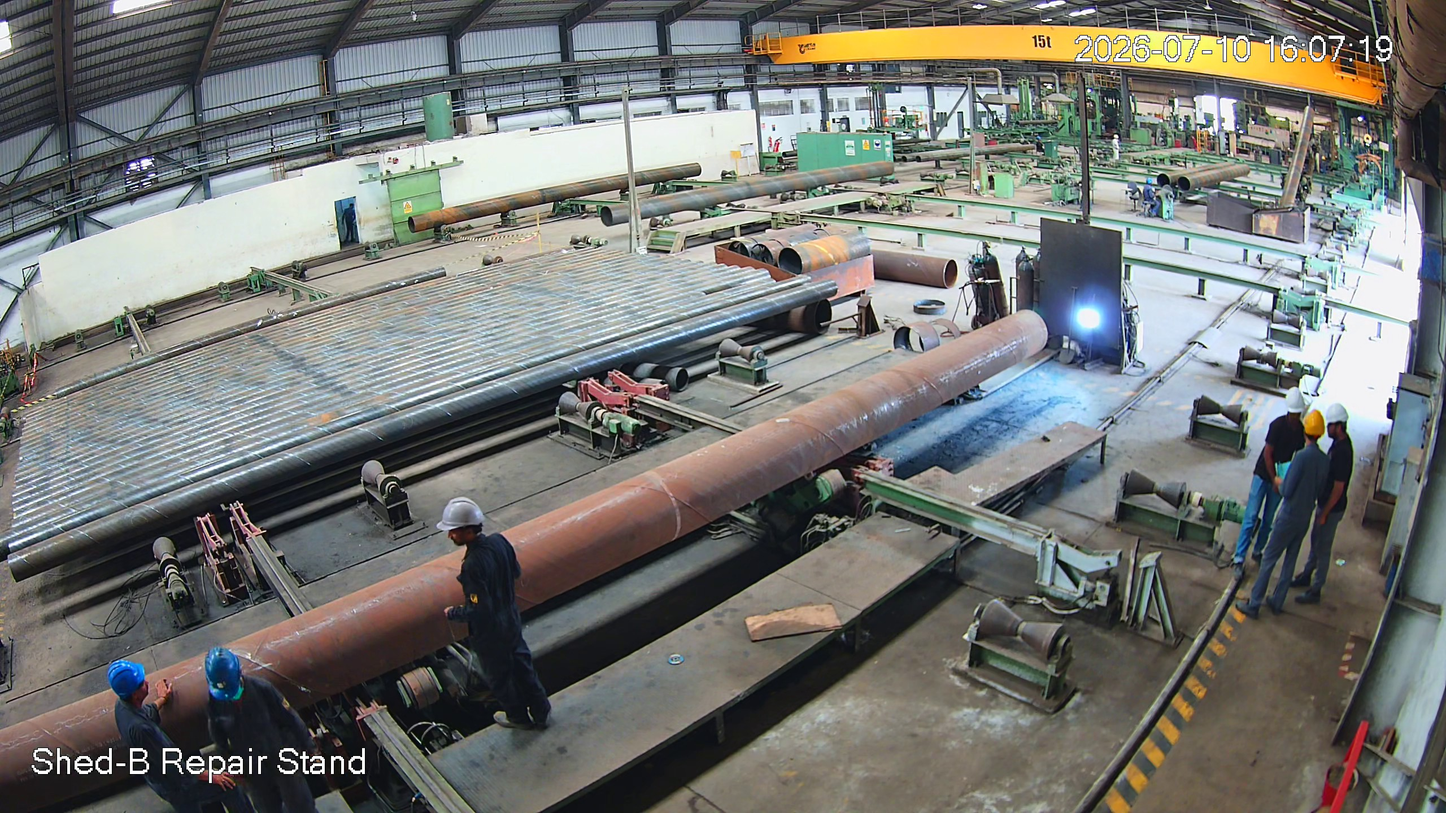Helmet: (1324, 396, 1361, 455), (1301, 403, 1340, 457), (1282, 379, 1313, 423)
Person: (1235, 383, 1315, 581), (1297, 405, 1349, 610), (1308, 398, 1356, 608)
